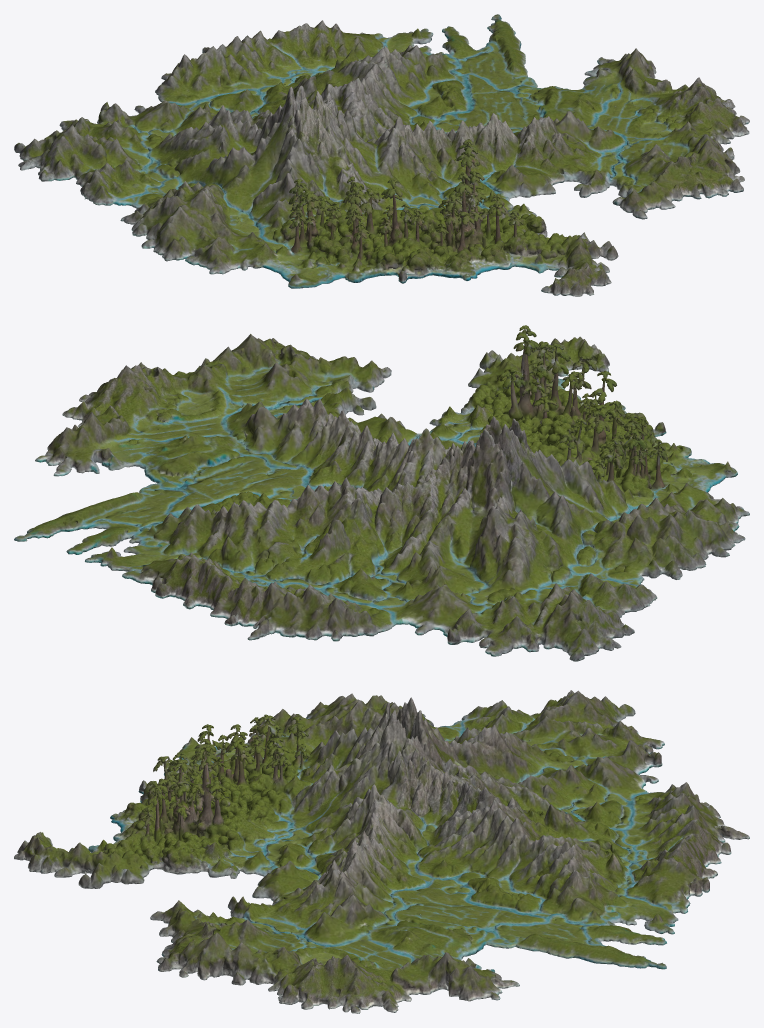
File: island.glb
3 views of the same model, one above another, from view 1: azimuth 30°, elevation 25°; view 2: azimuth 150°, elevation 25°; view 3: azimuth 270°, elevation 25° (orthographic). The views are drawn at different scales.
Size of the model in its own units: 2 by 0.3105 by 2.
1 material, 1 textured.
